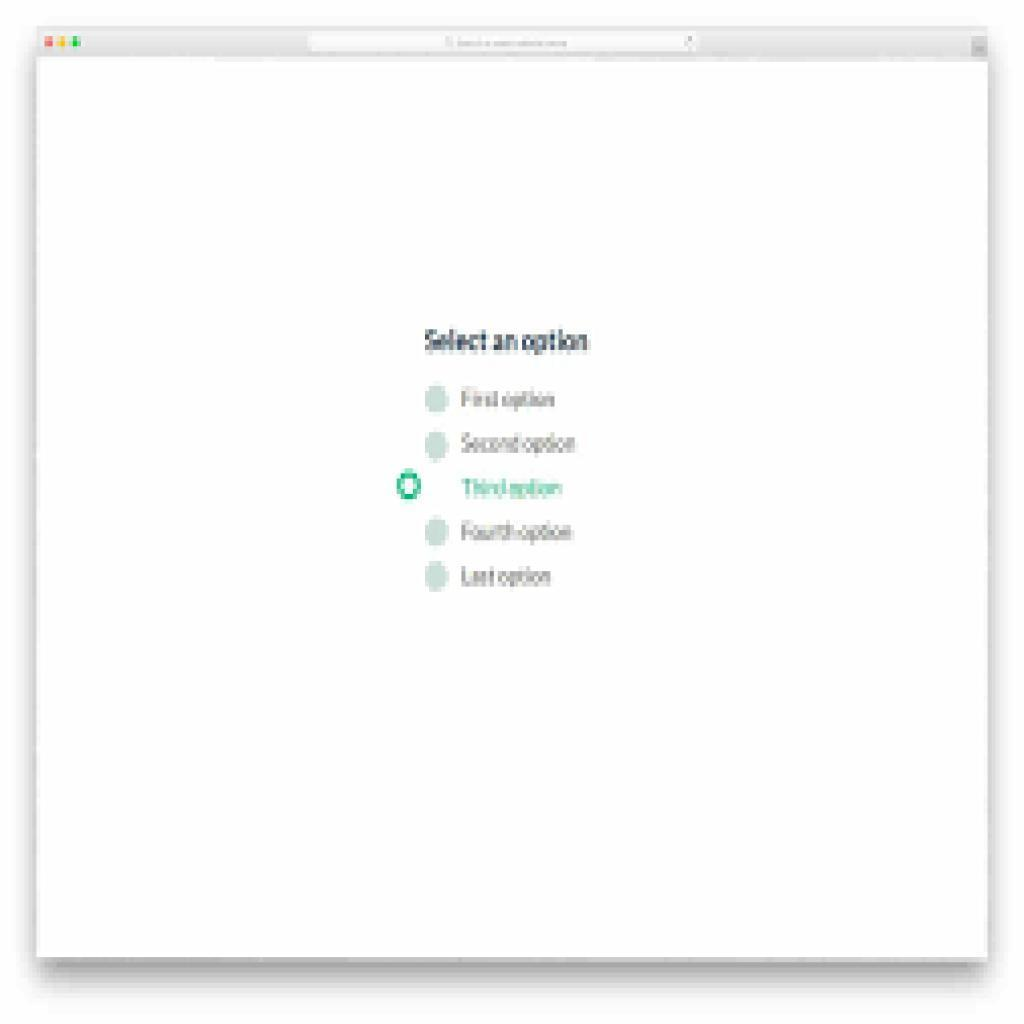label: (422, 325, 594, 362), (460, 430, 580, 460), (459, 517, 579, 547), (460, 476, 567, 504), (461, 562, 554, 593), (462, 385, 558, 413)
radio: (395, 471, 425, 504), (425, 562, 452, 595), (424, 517, 452, 548), (425, 384, 452, 415), (426, 432, 450, 464)
